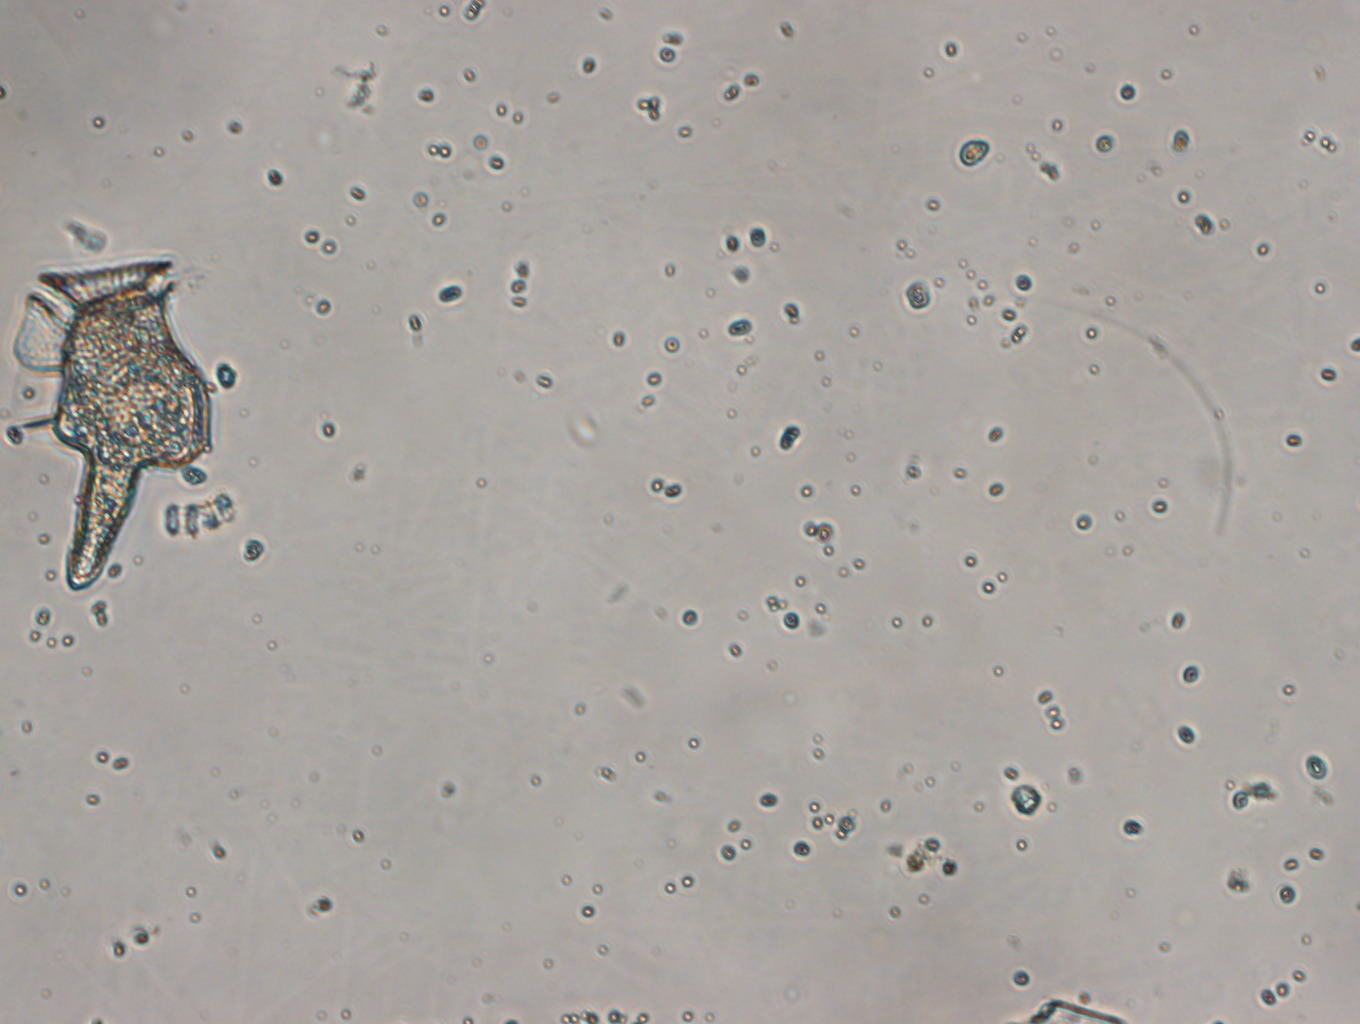dinophysis caudata: (3, 242, 229, 600)
